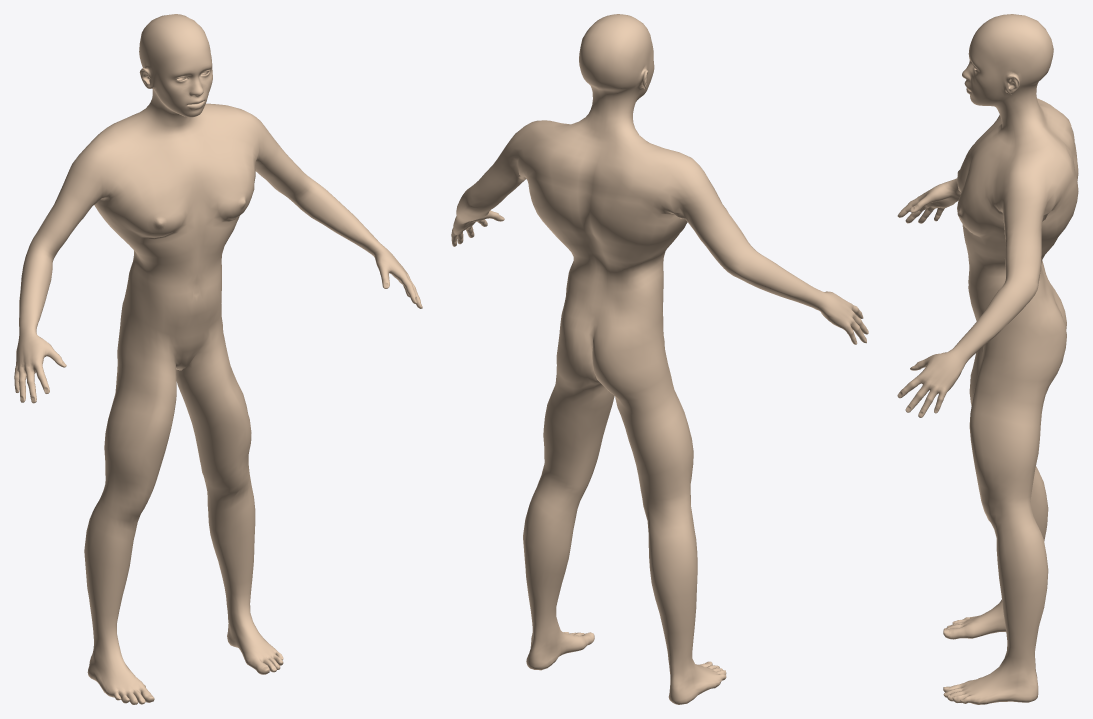
The model's file is female_InvertedTriangle.glb.
The picture shows the model from 3 angles, left to right: view 1: azimuth 30°, elevation 25°; view 2: azimuth 150°, elevation 25°; view 3: azimuth 270°, elevation 25°; orthographic projection. The views are drawn at different scales.
Parts seen in each view (by area): view 1: female_InvertedTriangle; view 2: female_InvertedTriangle; view 3: female_InvertedTriangle.
Part boxes in pixels (x1,y1,x2,y2): female_InvertedTriangle: (14, 14, 422, 704); female_InvertedTriangle: (451, 14, 868, 704); female_InvertedTriangle: (897, 14, 1078, 704).
Bounding box in the file's own units: 0.9723 × 1.5 × 0.3801.
